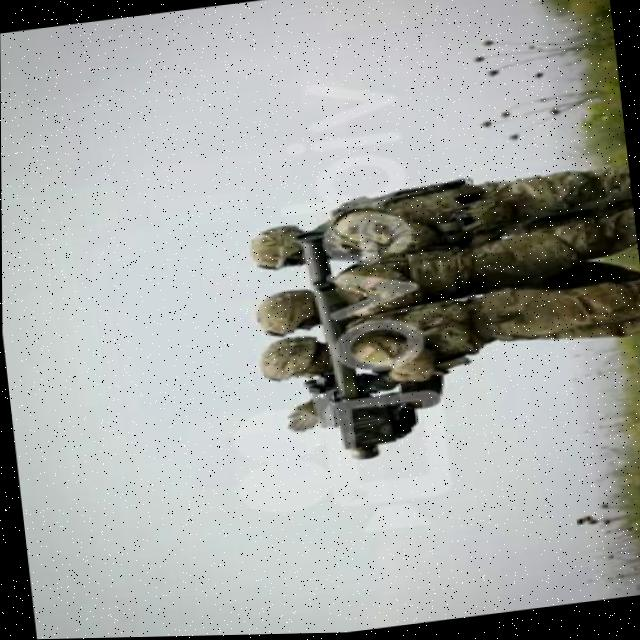rocket: (293, 226, 377, 463)
